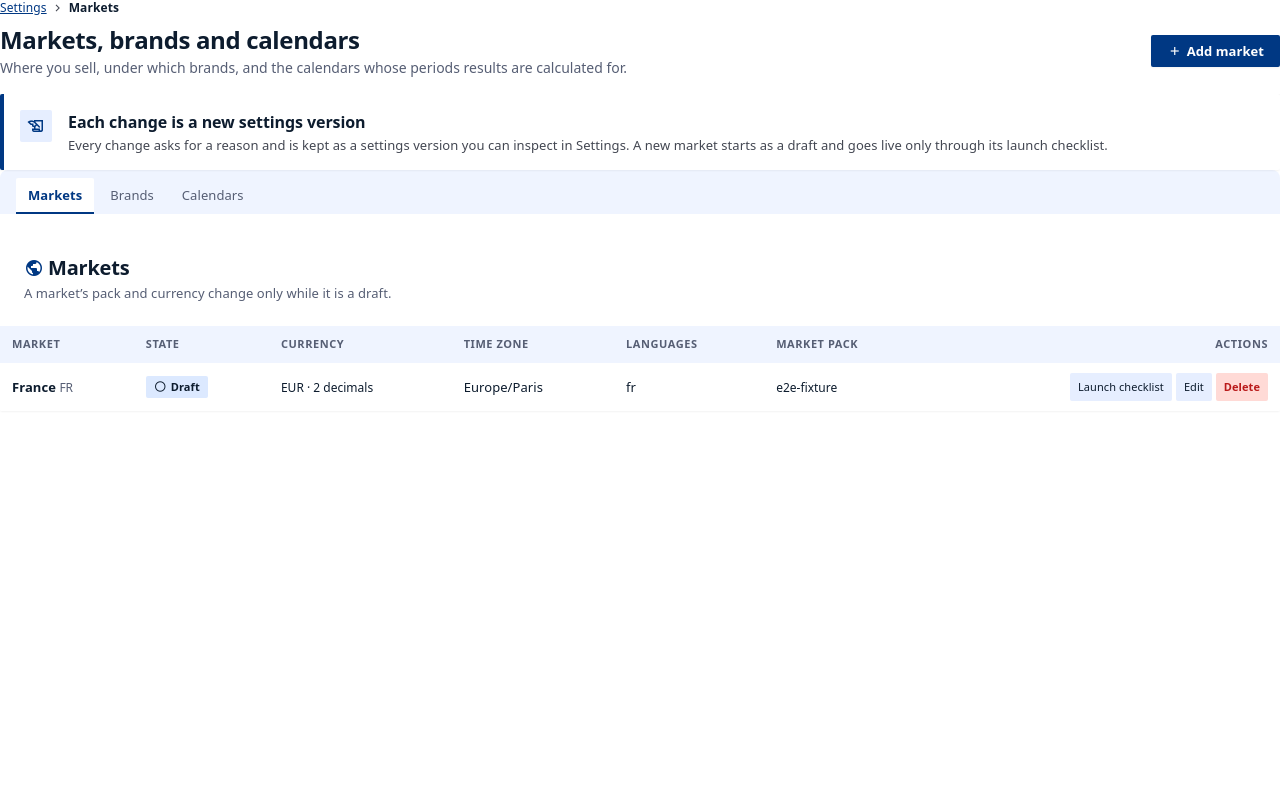
MarketsPage › names what references a market it refuses to delete
Click the button with aria-label "Delete market FR": (1242, 386) [1216, 372, 1268, 400]
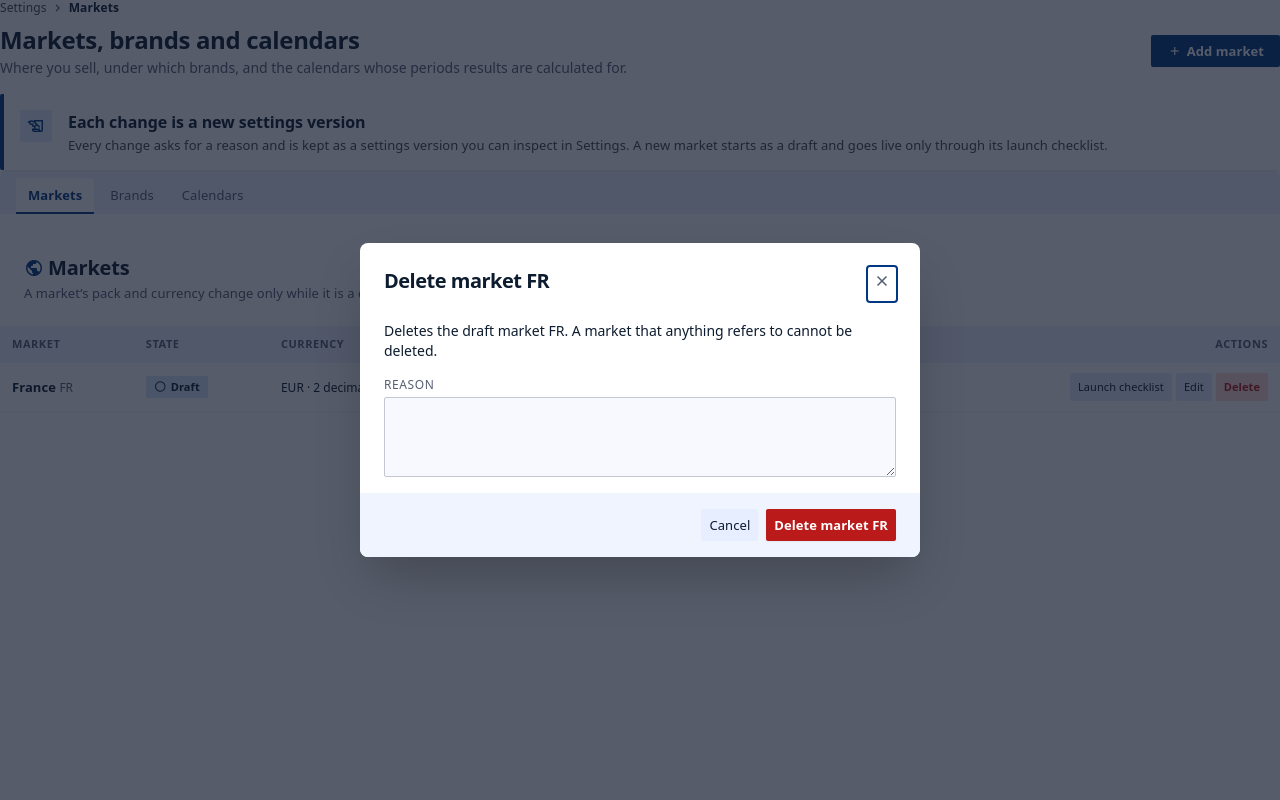
In the text box labelled "Reason": (640, 437) [384, 397, 896, 477], type "Not launching"
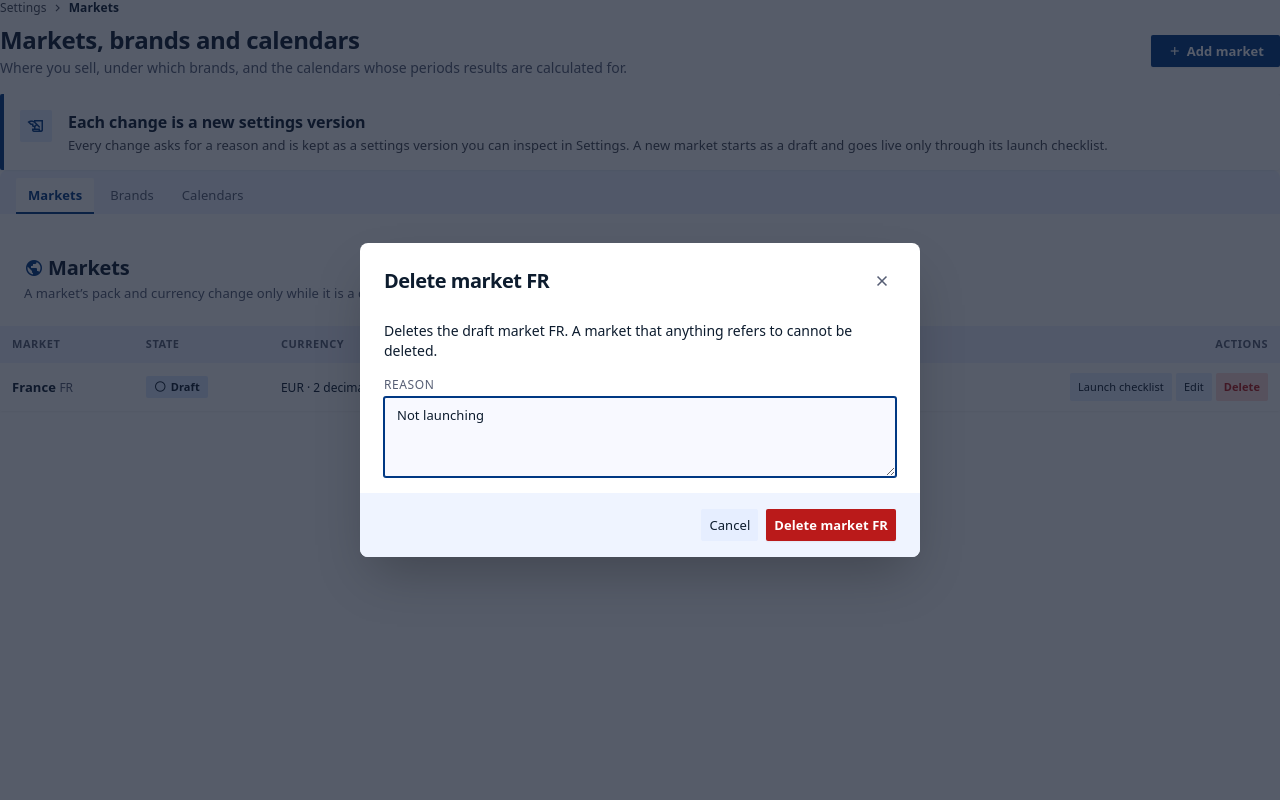
Click the button "Delete market FR": (831, 525) [766, 509, 896, 541]
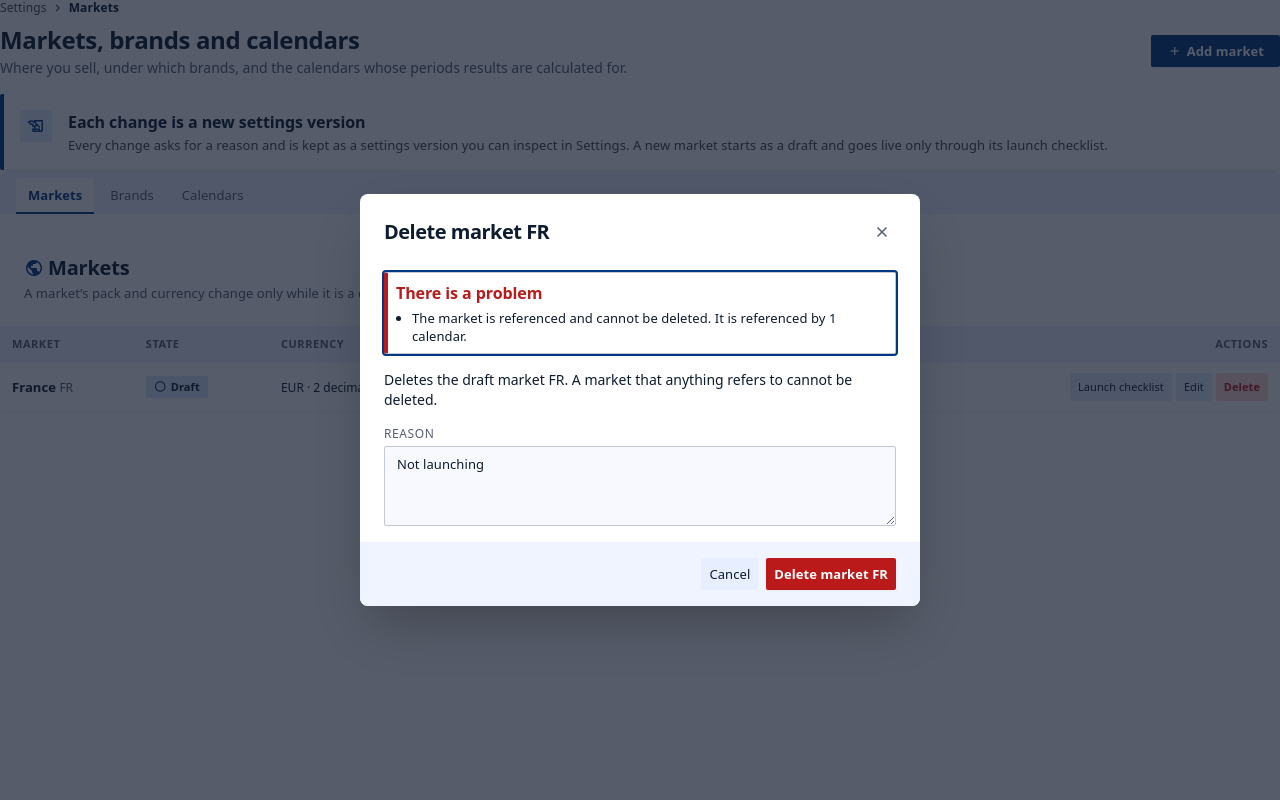
Result: the list item "The market is referenced and cannot be deleted. It is referenced by 1 calendar." is shown at [412, 309, 887, 345]
